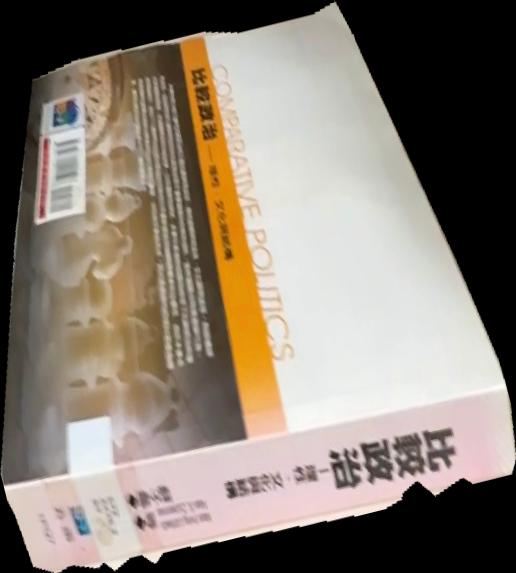flat: (1, 1, 516, 573)
